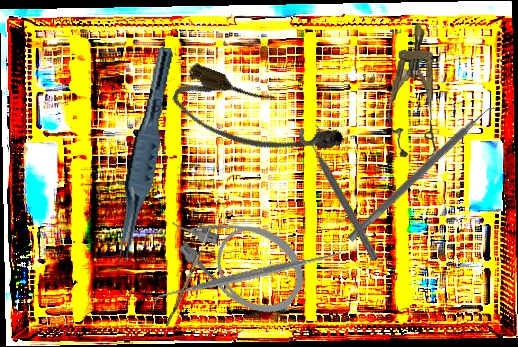Cannula: (156, 180, 319, 330), (166, 59, 349, 179)
Fixation Ring: (295, 120, 390, 264)
Spatula Surgical: (346, 98, 502, 249), (148, 242, 348, 310)
Speculum: (384, 21, 446, 160)
Surgical Spoon: (165, 225, 213, 328)
Tissue Forceps: (111, 44, 175, 269)
